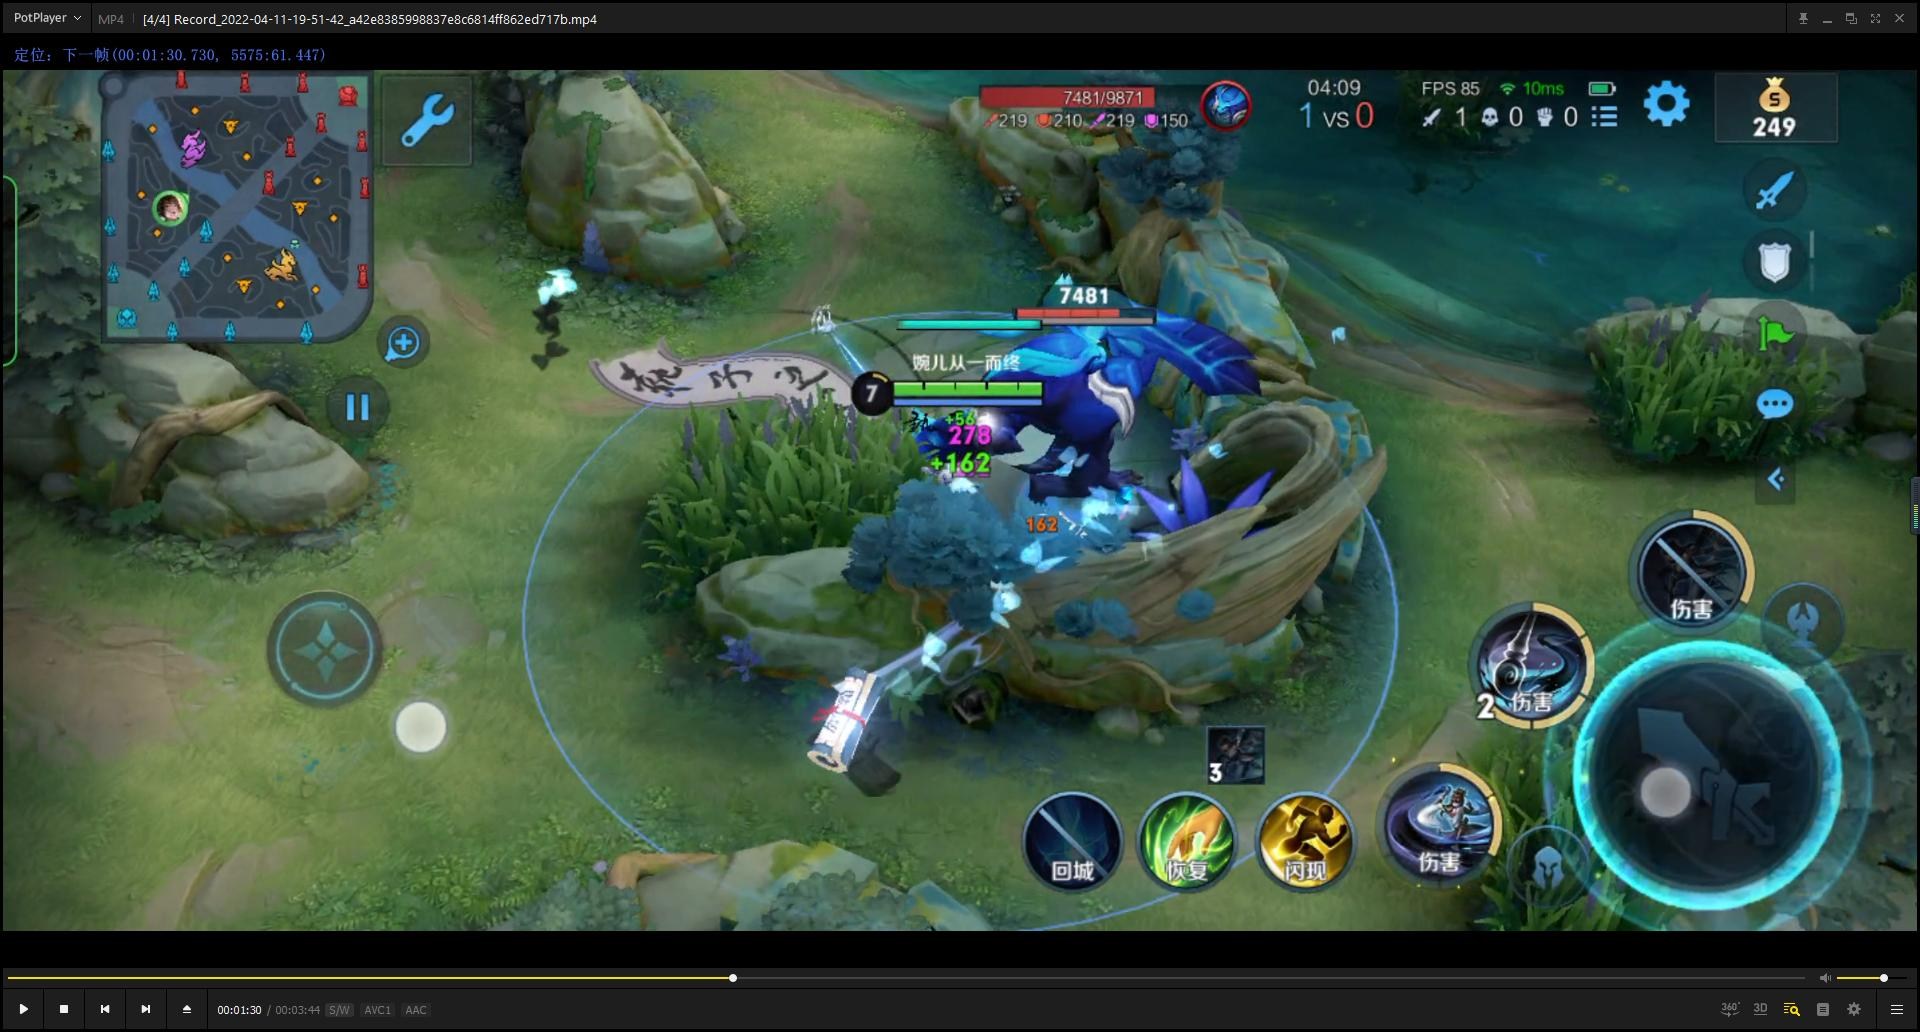Buff: (896, 258, 1254, 550)
